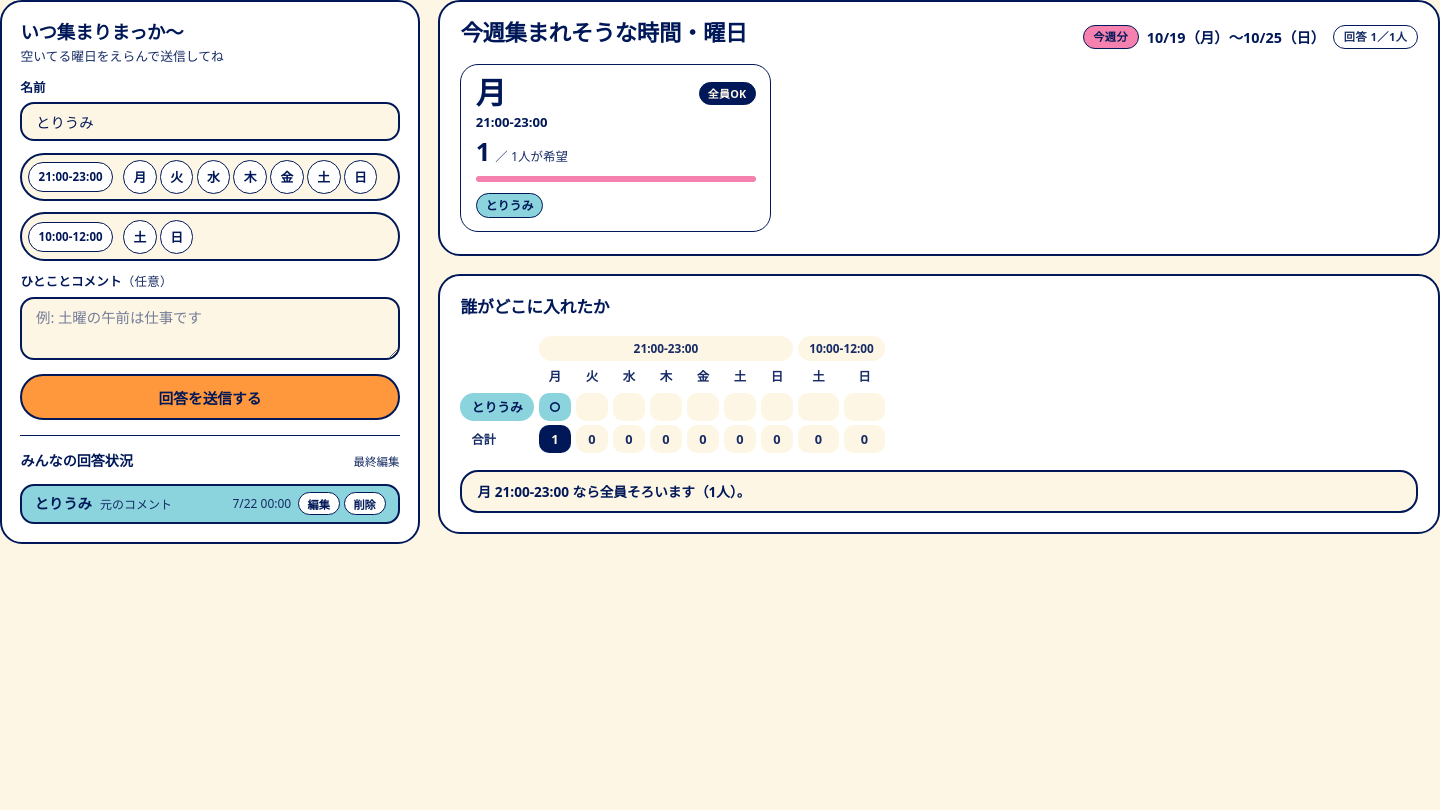
it: MatrixPageClient: 編集フロー › 編集ボタンでフォームに既存データが反映される
Step 1. Click the button "編集" → [319, 504], box [298,492,340,515]
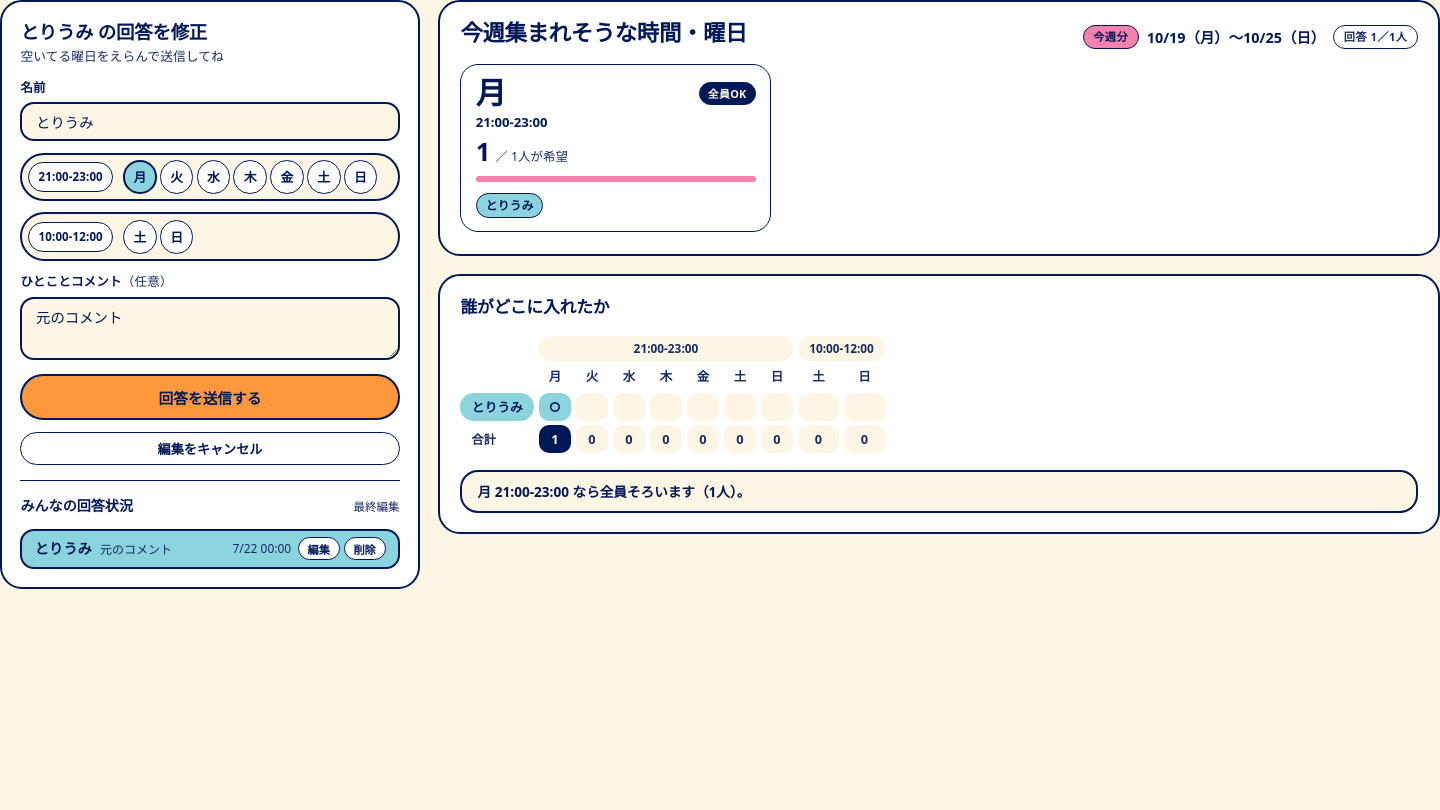
Expected: the field labelled "名前" holds "とりうみ", [20,102,400,141]
Result: the text box labelled "ひとことコメント（任意）" holds "元のコメント" at [20,297,400,360]
Result: the checkbox labelled "月" is checked at [123,160,157,194]
